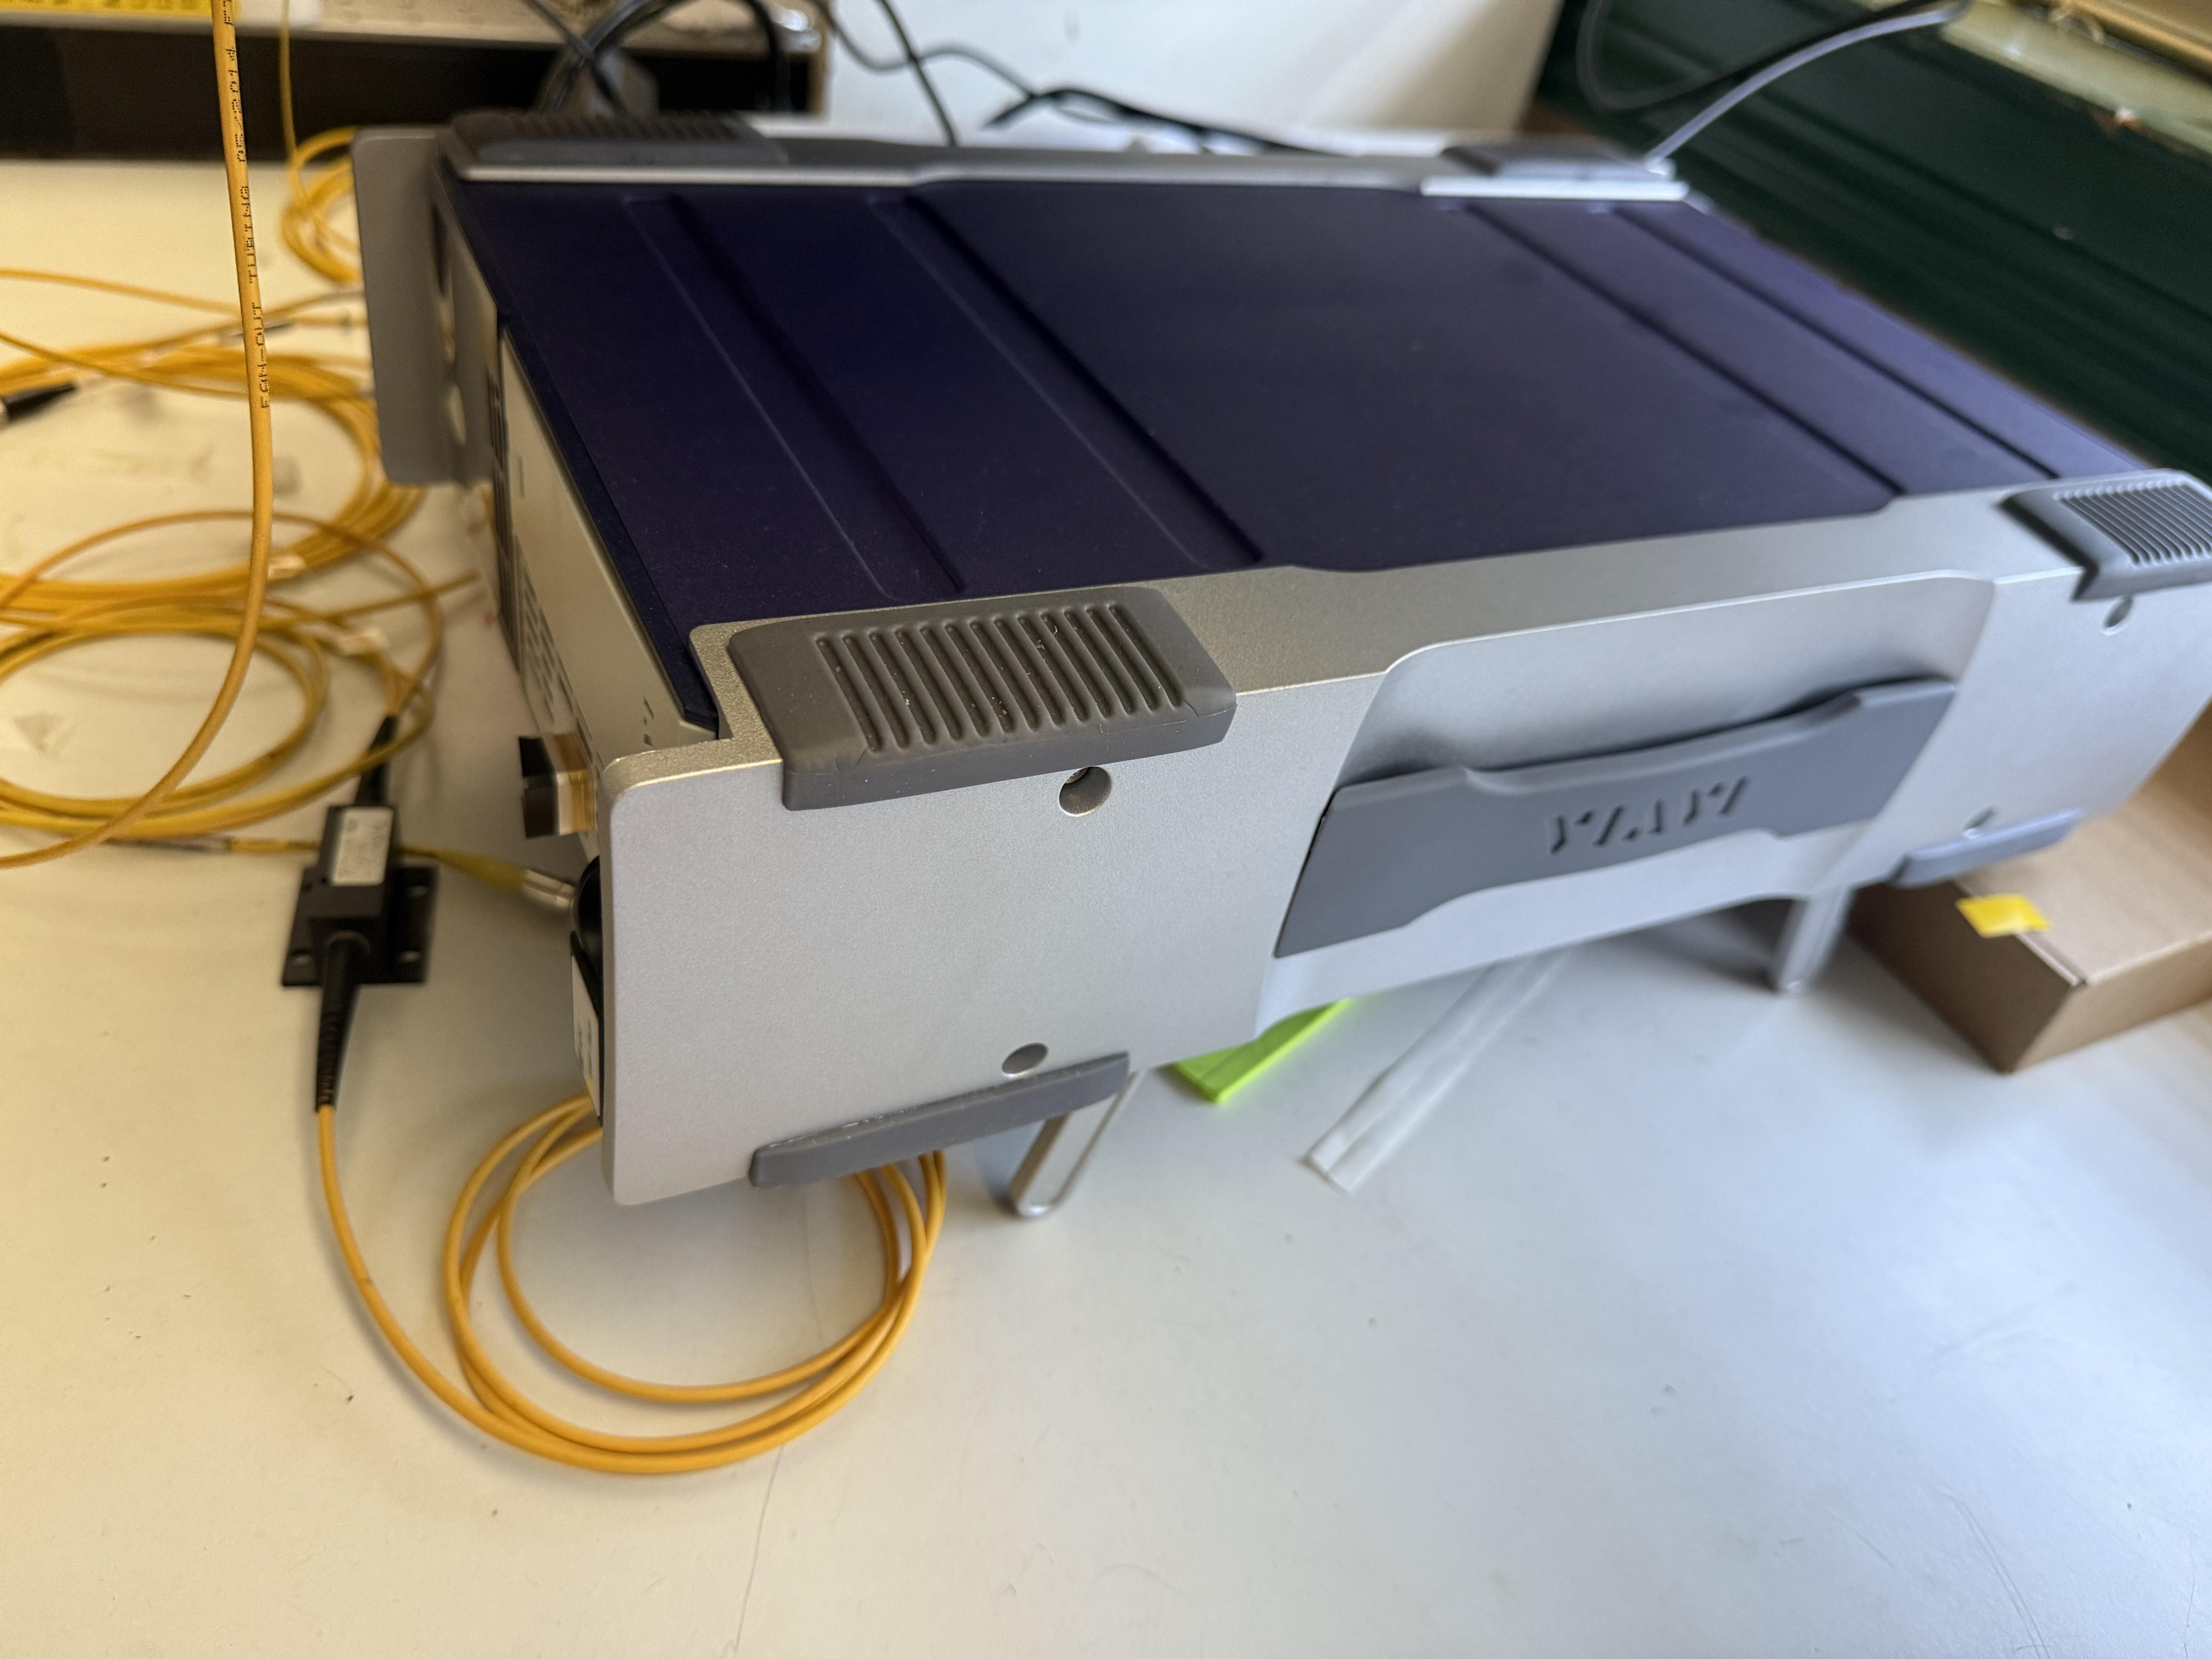laser: (394, 139, 2212, 1248)
